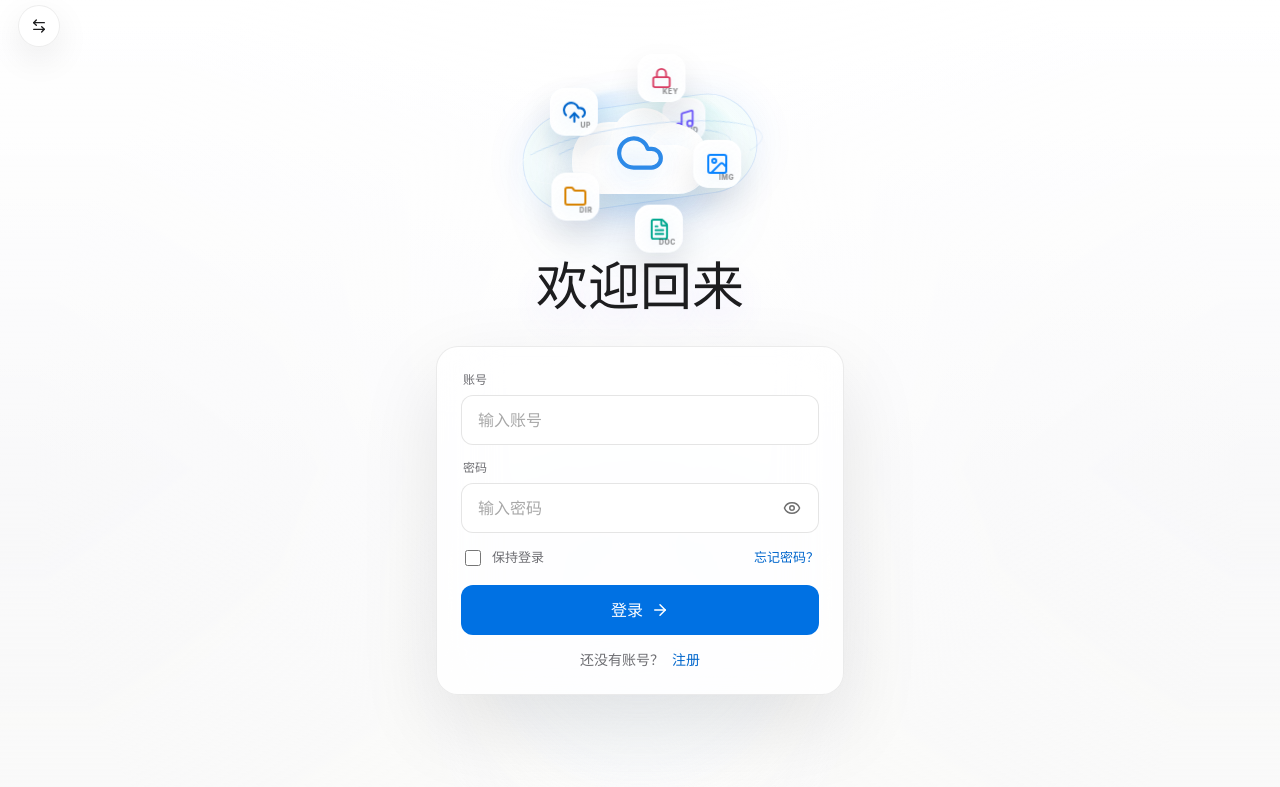
Test: LoginPage › switches between login and register on the legacy page
Click the button named "切换旧登录页面". click: click(39, 26)
box: [18,5,60,47]
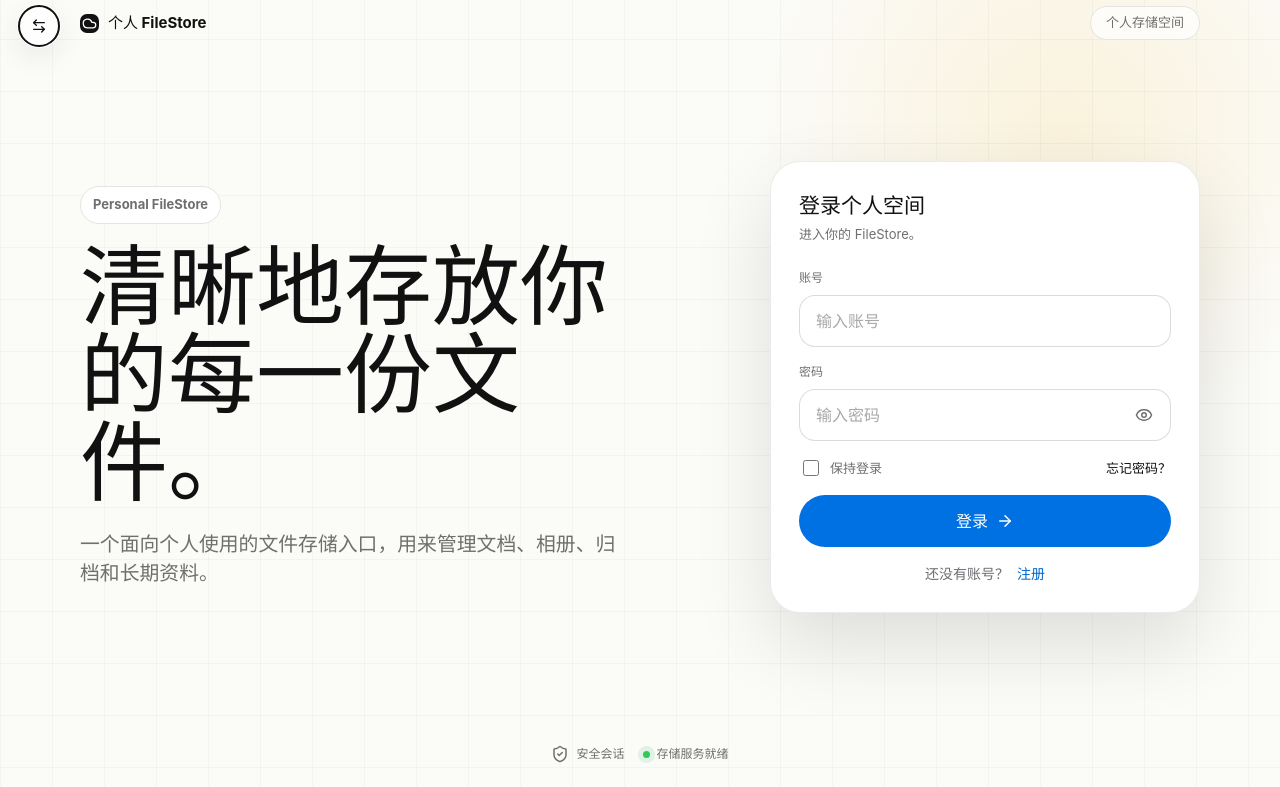
Click the button "注册". click: click(1031, 574)
box: [1017,563,1045,584]
(page scrolled)
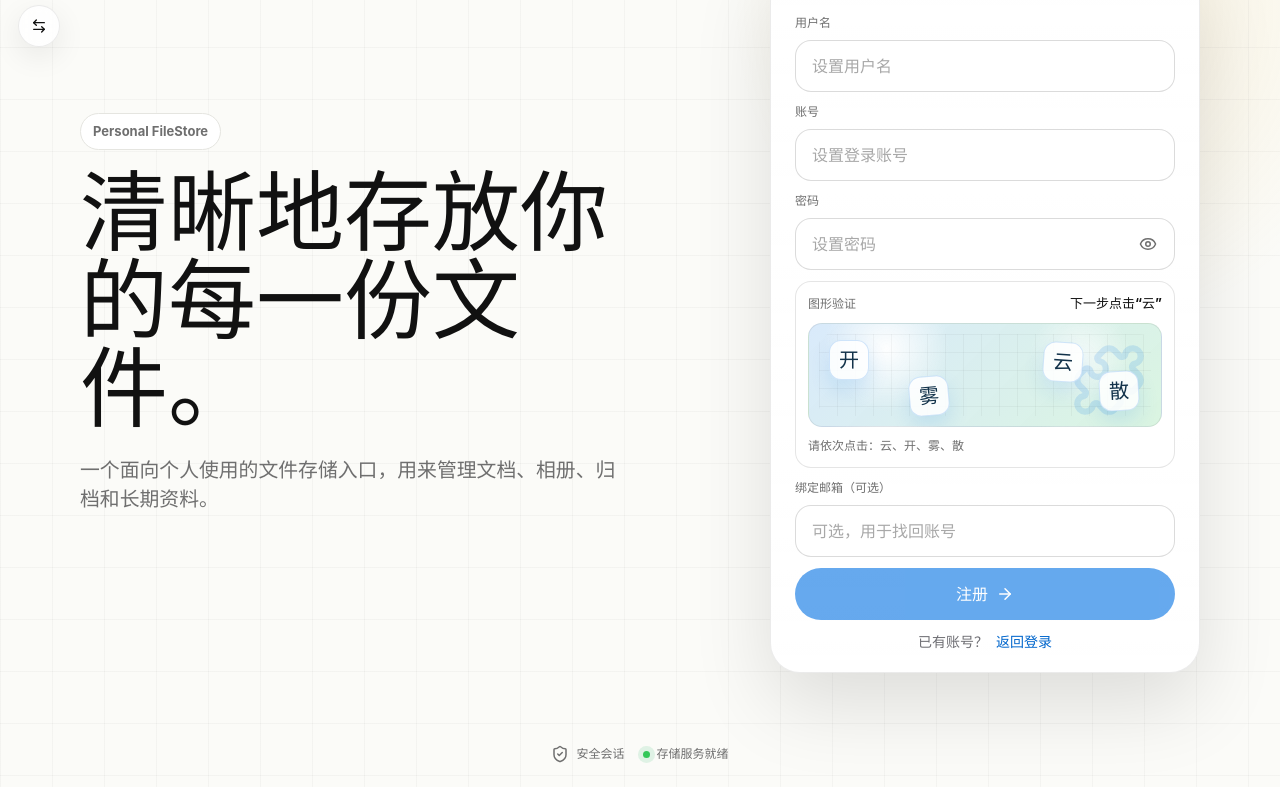
Click the button "返回登录". click: click(1024, 642)
box: [996,631,1052,652]
(page scrolled)
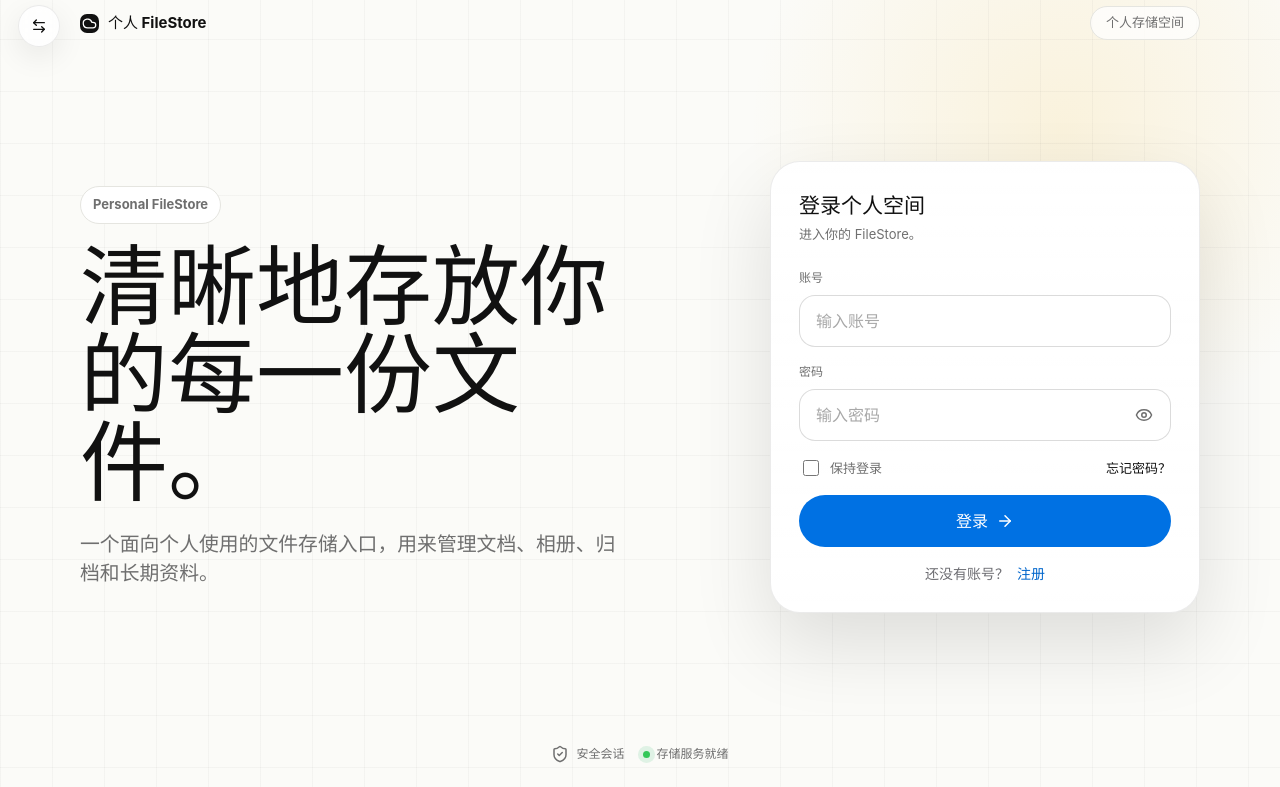
Check: the form named "个人空间登录表单" is shown, box [770,161,1200,613]
